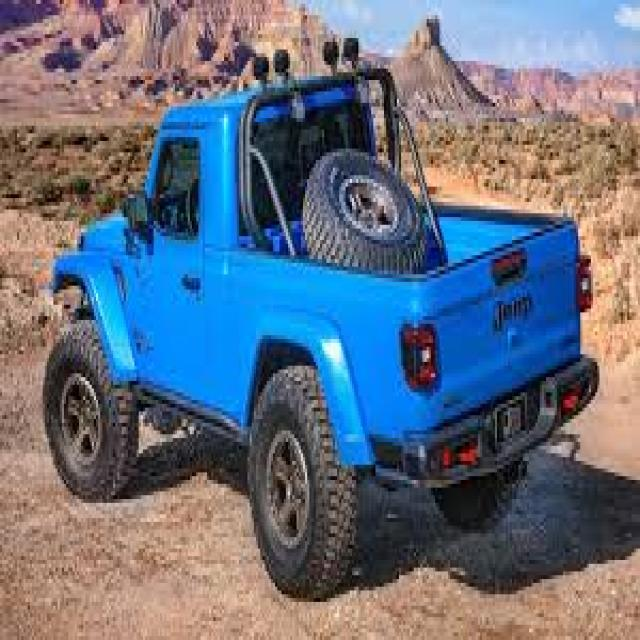Pickup Trucks: (44, 76, 602, 598)
